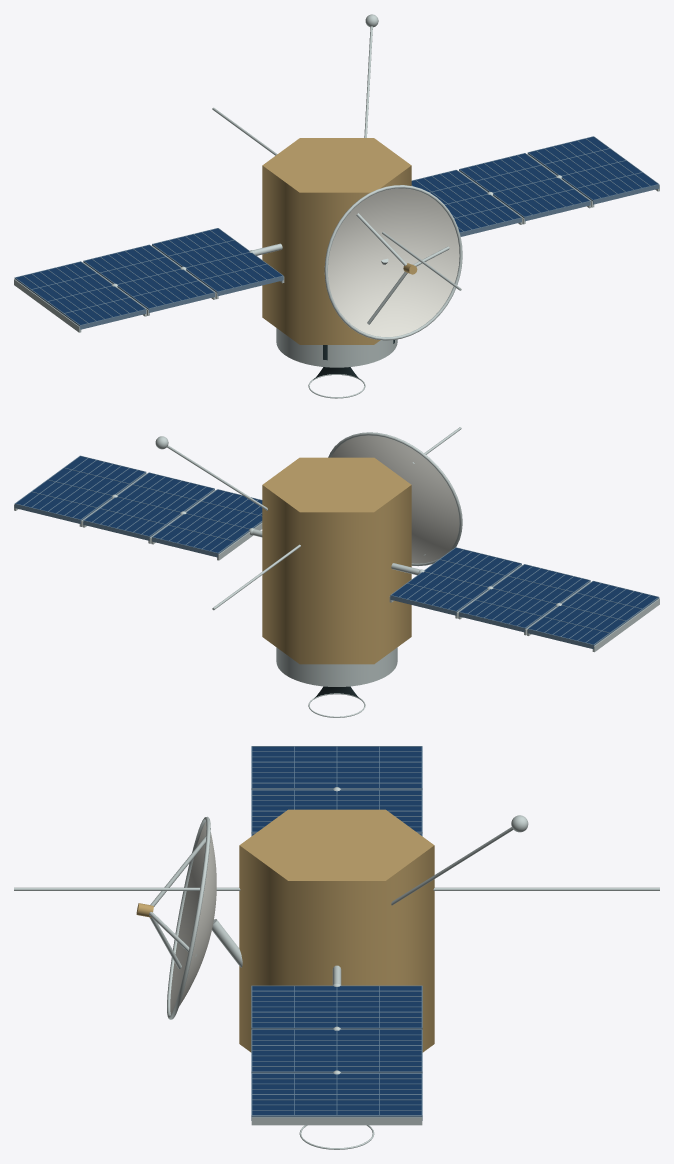
The model's file is tianwen-1.glb.
3 renders of one model, top to bottom at view 1: azimuth 30°, elevation 25°; view 2: azimuth 150°, elevation 25°; view 3: azimuth 270°, elevation 25°, orthographic. The views are drawn at different scales.
Visible parts, largest first — view 1: photovoltaic-panel (×6), body, reflector, solar (×6), antenna, instruments; view 2: body, photovoltaic-panel (×6), solar (×6), reflector, instruments, antenna, propulsion; view 3: body, photovoltaic-panel (×5), solar (×5), reflector, antenna, instruments.
Part boxes in pixels (box(x1,y1,x2,y2)): photovoltaic-panel (×6): box(16, 137, 657, 324); body: box(262, 138, 411, 367); reflector: box(328, 188, 459, 336); solar (×6): box(14, 136, 659, 332); antenna: box(324, 185, 462, 340); instruments: box(212, 14, 461, 360); body: box(262, 457, 411, 686); photovoltaic-panel (×6): box(16, 456, 657, 644); solar (×6): box(14, 455, 659, 652); reflector: box(331, 435, 459, 563); instruments: box(155, 427, 461, 610); antenna: box(328, 432, 462, 566); propulsion: box(308, 686, 365, 717); body: box(239, 809, 434, 1052); photovoltaic-panel (×5): box(252, 747, 421, 1114); solar (×5): box(251, 746, 422, 1125); reflector: box(170, 822, 216, 1014); antenna: box(136, 816, 210, 1019); instruments: box(14, 815, 659, 905).
Bounding box in the file's own units: 7.19 × 3.49 × 5.3.
